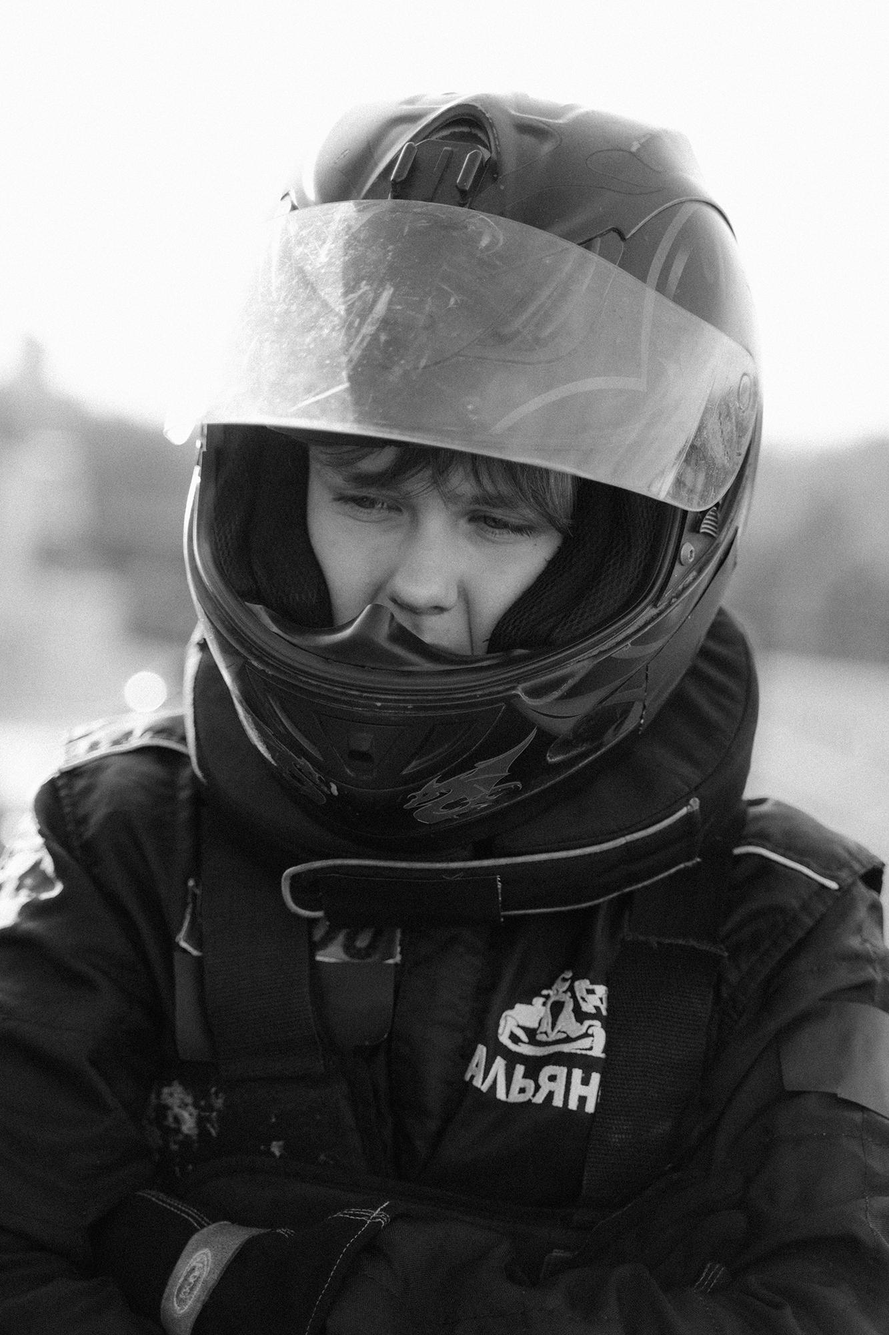helmet: (158, 80, 768, 860)
